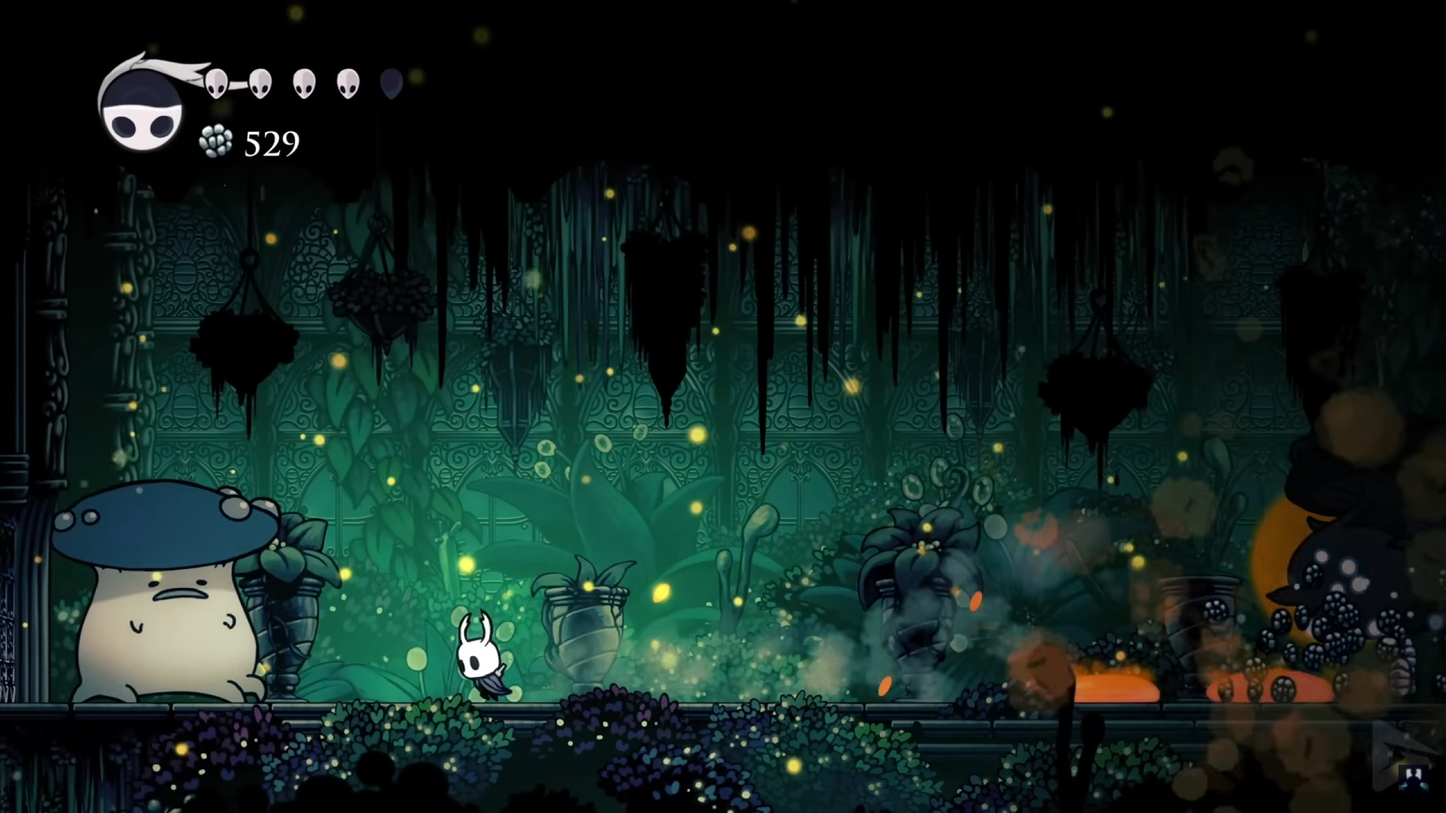HK: (449, 606, 511, 704)
